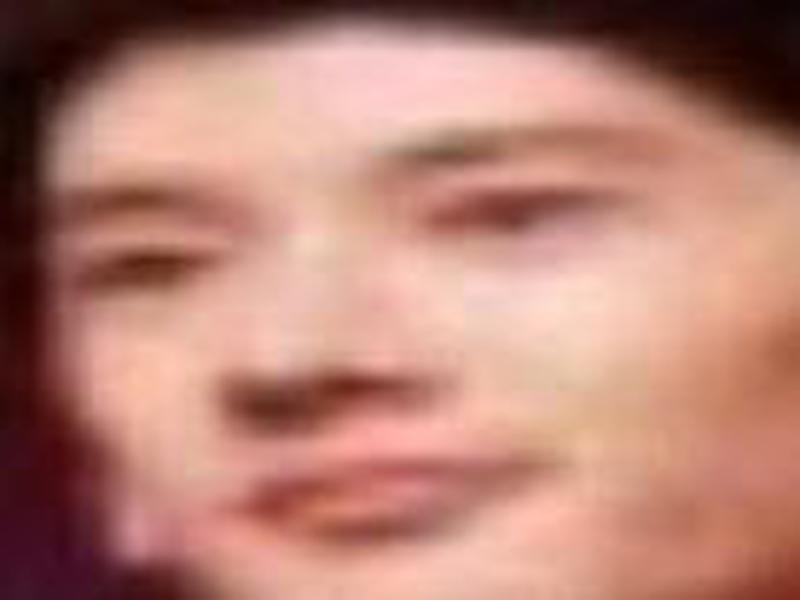without_mask: (36, 33, 793, 593)
